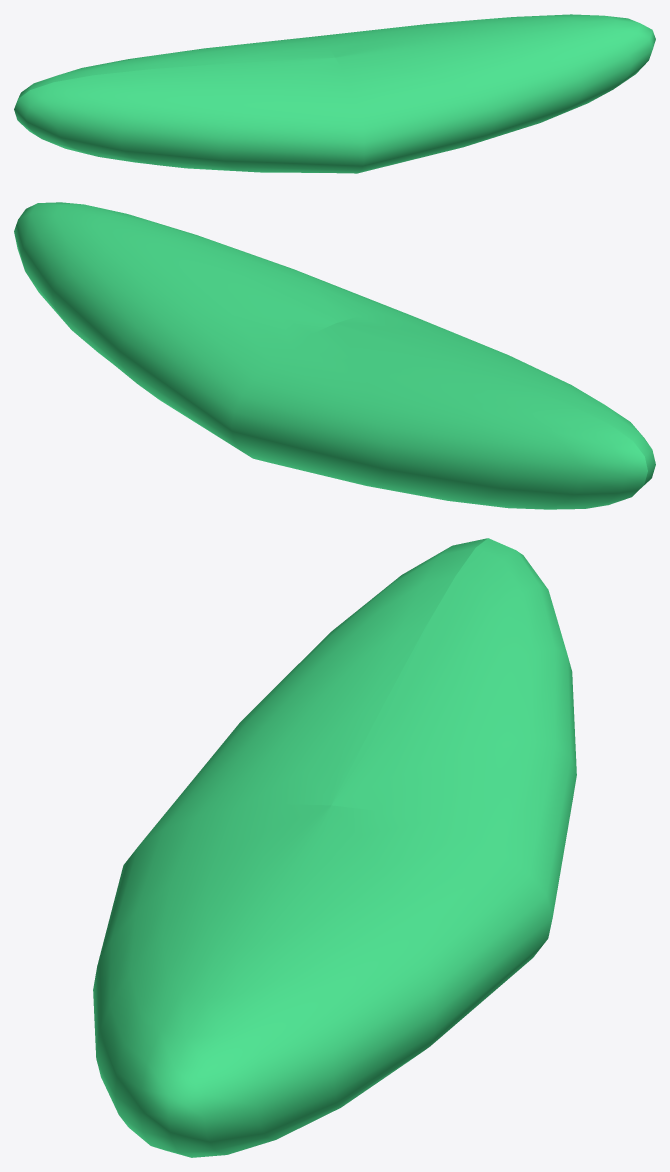
Rendered from mint-leaf.glb.
The picture shows the model from 3 angles, top to bottom: view 1: azimuth 30°, elevation 25°; view 2: azimuth 150°, elevation 25°; view 3: azimuth 270°, elevation 25°; orthographic projection. The views are drawn at different scales.
Bounding box in the file's own units: 1.34 × 0.2464 × 0.5006.
